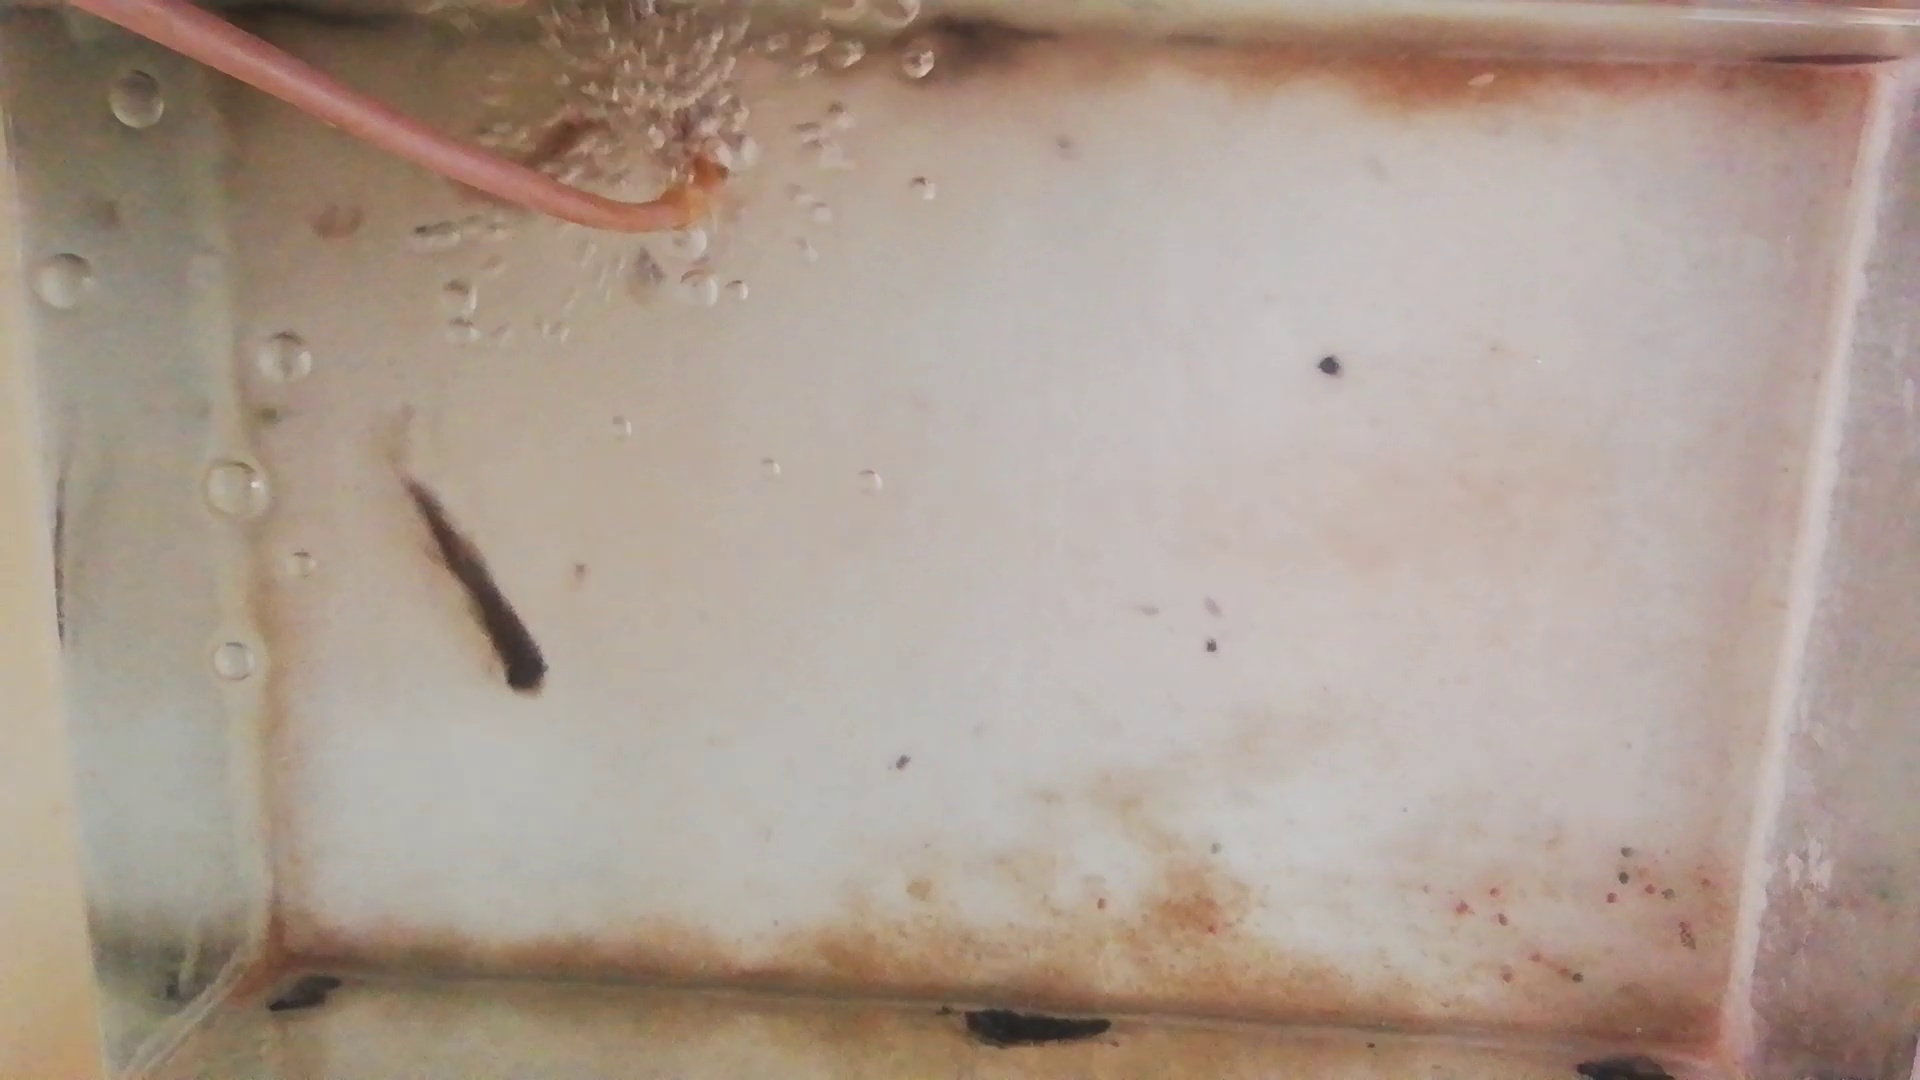fish: (413, 480, 546, 695), (514, 111, 616, 170)
